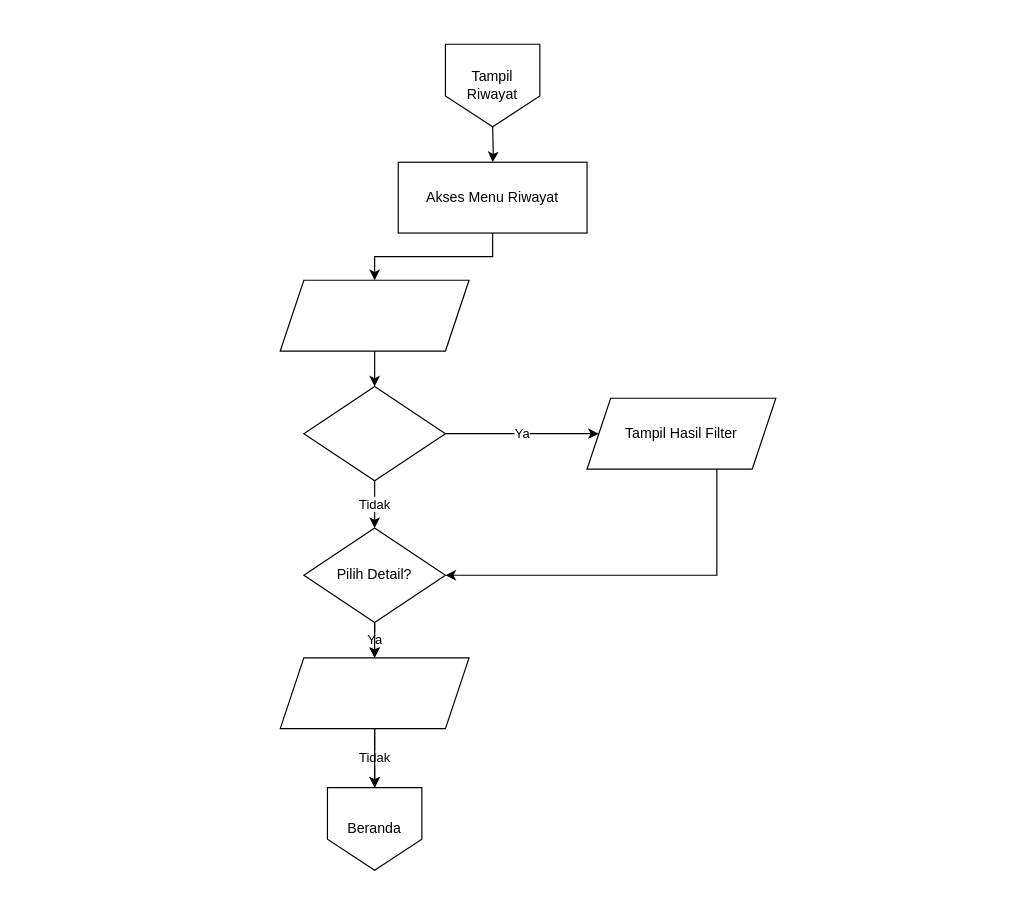
This 1016x913 diagram has some shape labels left out. The shapes that lost their labels are listed below. From the top down, each one's box as (x1, y1, x2, y2) in pixels, then its label:
(279, 279, 469, 351): Tampil Riwayat Diagnosa
(303, 385, 445, 481): Search / Filter?
(279, 657, 469, 729): Tampil Detail Diagnosa
